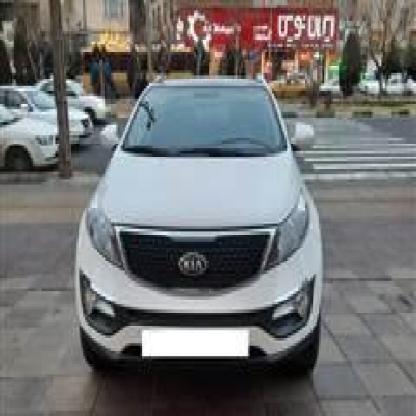Car: (76, 83, 324, 382), (7, 83, 88, 146), (0, 96, 55, 171), (40, 68, 107, 124)
